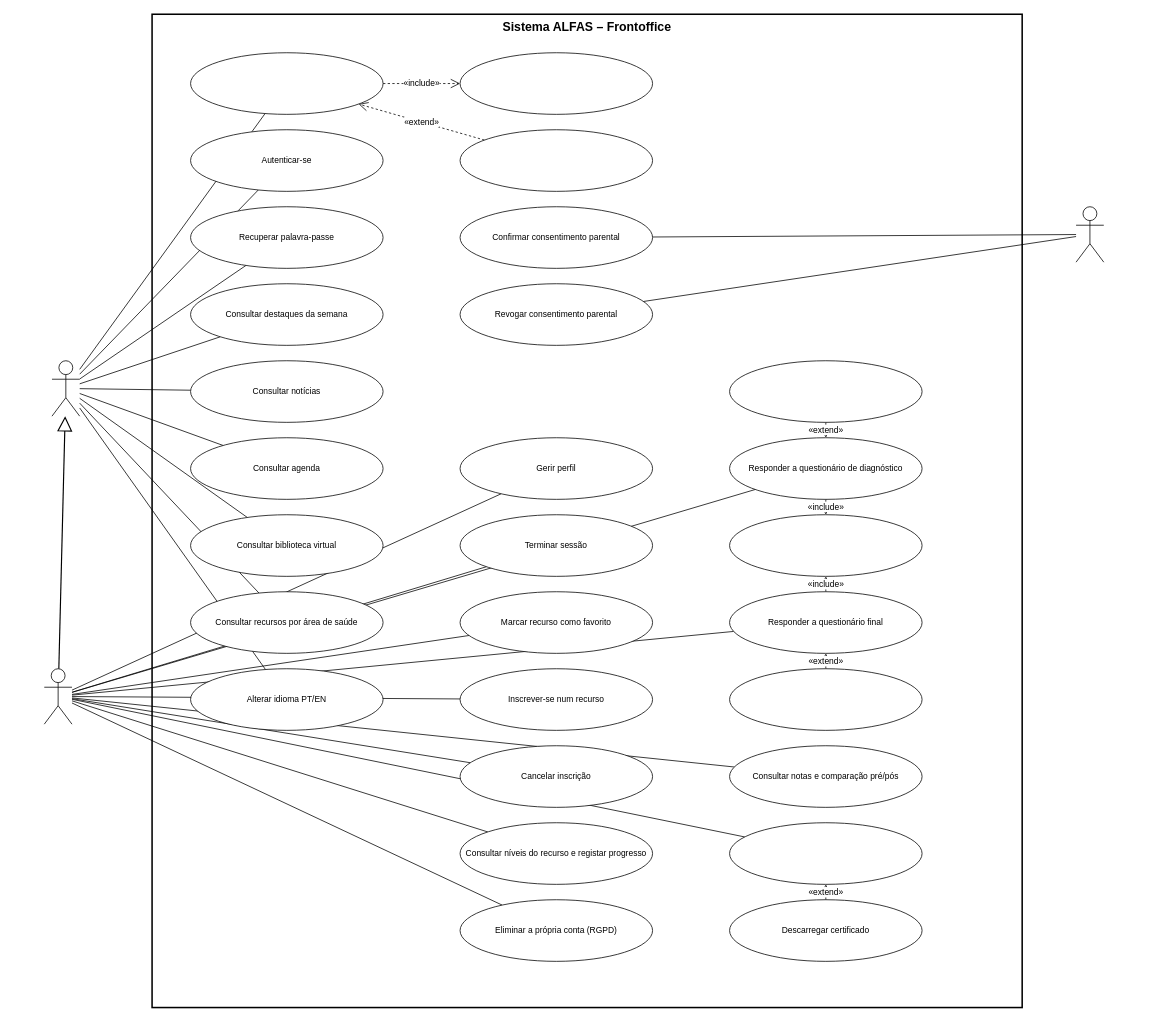
Some shapes in this 1161 by 1021 pixel diagram are drawn without their labels. The shapes that lost their labels are listed below. From the top down, each one's centre as x and y in pixels, then its label:
pixel 286 83: Registar conta
pixel 556 83: Verificar endereço de e-mail
pixel 556 160: Pedir consentimento parental (menores)
pixel 1089 234: Encarregado de Educação
pixel 65 388: Convidado
pixel 825 391: Repetir diagnóstico (2.ª oportunidade)
pixel 825 545: Corrigir tentativa e calcular nota de 0 a 100
pixel 58 696: Utilizador Registado
pixel 825 699: Atribuir conclusão, badge e certificado (nota ≥ nota mínima, 85 por omissão)
pixel 825 853: Consultar badges e certificados
